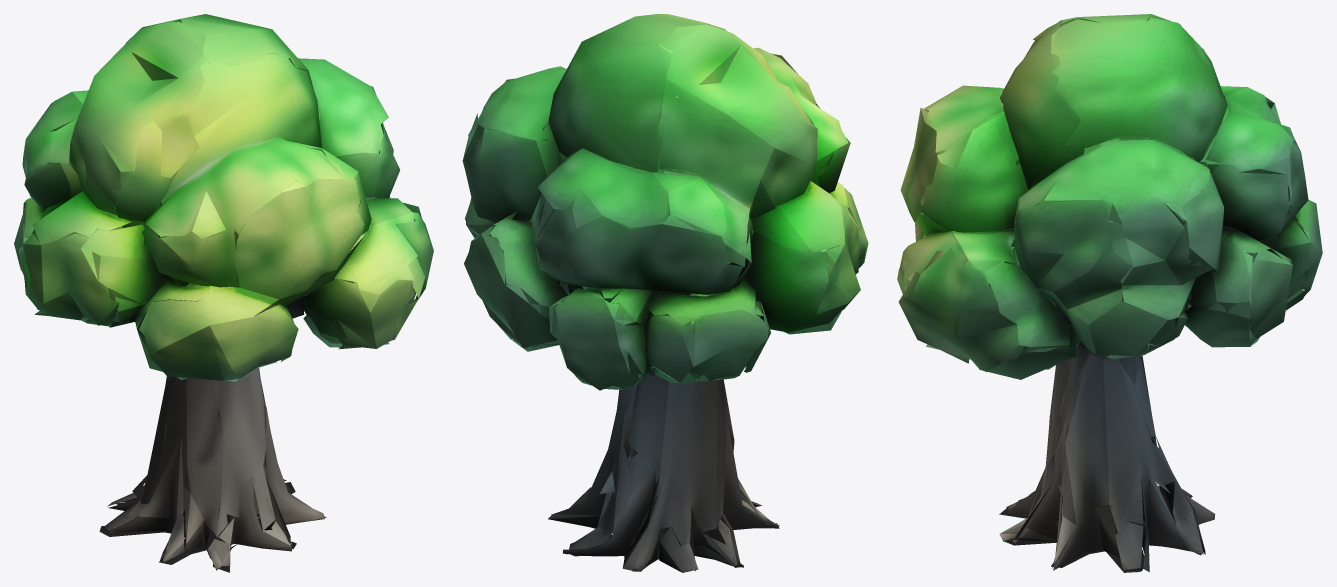
Rendered from oak_tree.fbx.
3 views of the same model, side by side, from view 1: azimuth 30°, elevation 25°; view 2: azimuth 150°, elevation 25°; view 3: azimuth 270°, elevation 25° (orthographic). The views are drawn at different scales.
Visible parts, largest first — view 1: oak_tree; view 2: oak_tree; view 3: oak_tree.
Boxes of the visible parts, <box> form: oak_tree: <box>14,14,433,572</box>; oak_tree: <box>462,14,868,572</box>; oak_tree: <box>897,14,1322,572</box>.
Size of the model in its own units: 3.43 by 4.5 by 3.44.
1 material, 1 textured.
